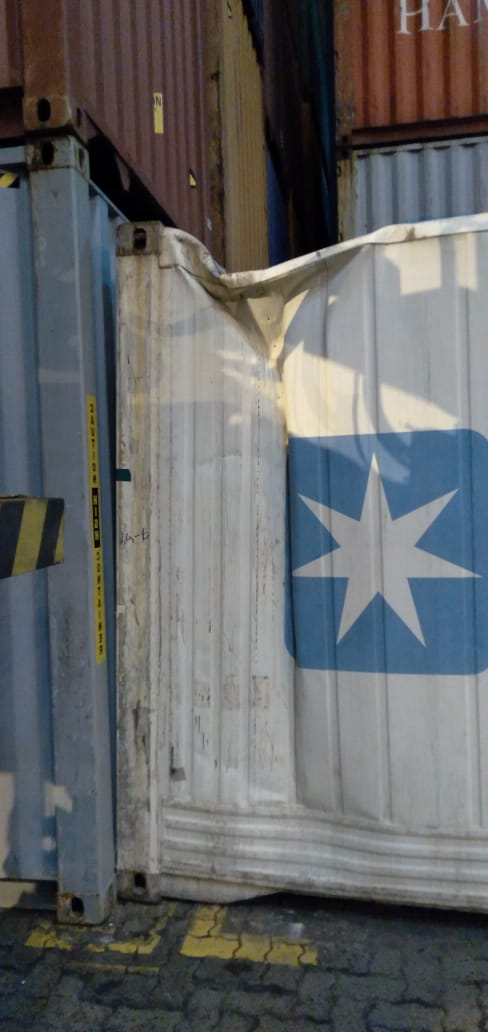dented: (154, 208, 406, 352)
